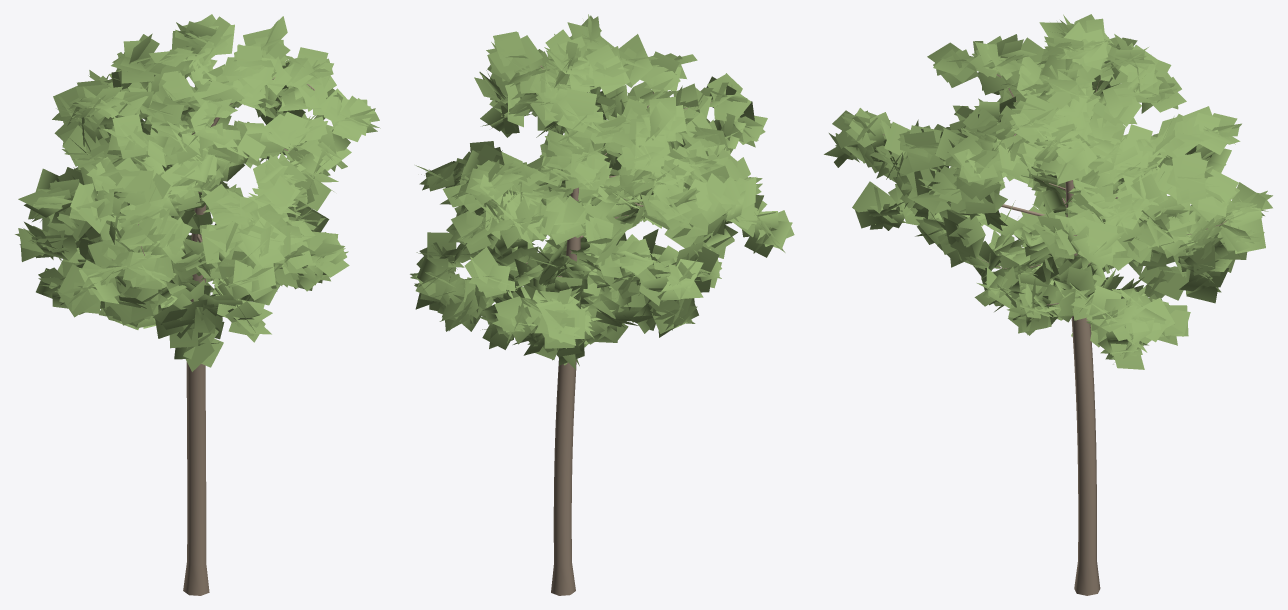
The model's file is Pine_2_lod1.glb.
3 views of the same model, side by side, from view 1: azimuth 30°, elevation 25°; view 2: azimuth 150°, elevation 25°; view 3: azimuth 270°, elevation 25° (orthographic). The views are drawn at different scales.
Visible parts, largest first — view 1: Pine_2_lod1; view 2: Pine_2_lod1; view 3: Pine_2_lod1.
Boxes of the visible parts, left/top/right/bottom form: Pine_2_lod1: left=15, top=14, right=380, bottom=595; Pine_2_lod1: left=410, top=14, right=794, bottom=595; Pine_2_lod1: left=824, top=14, right=1272, bottom=595.
Bounding box in the file's own units: 11.92 × 19.41 × 14.05.
